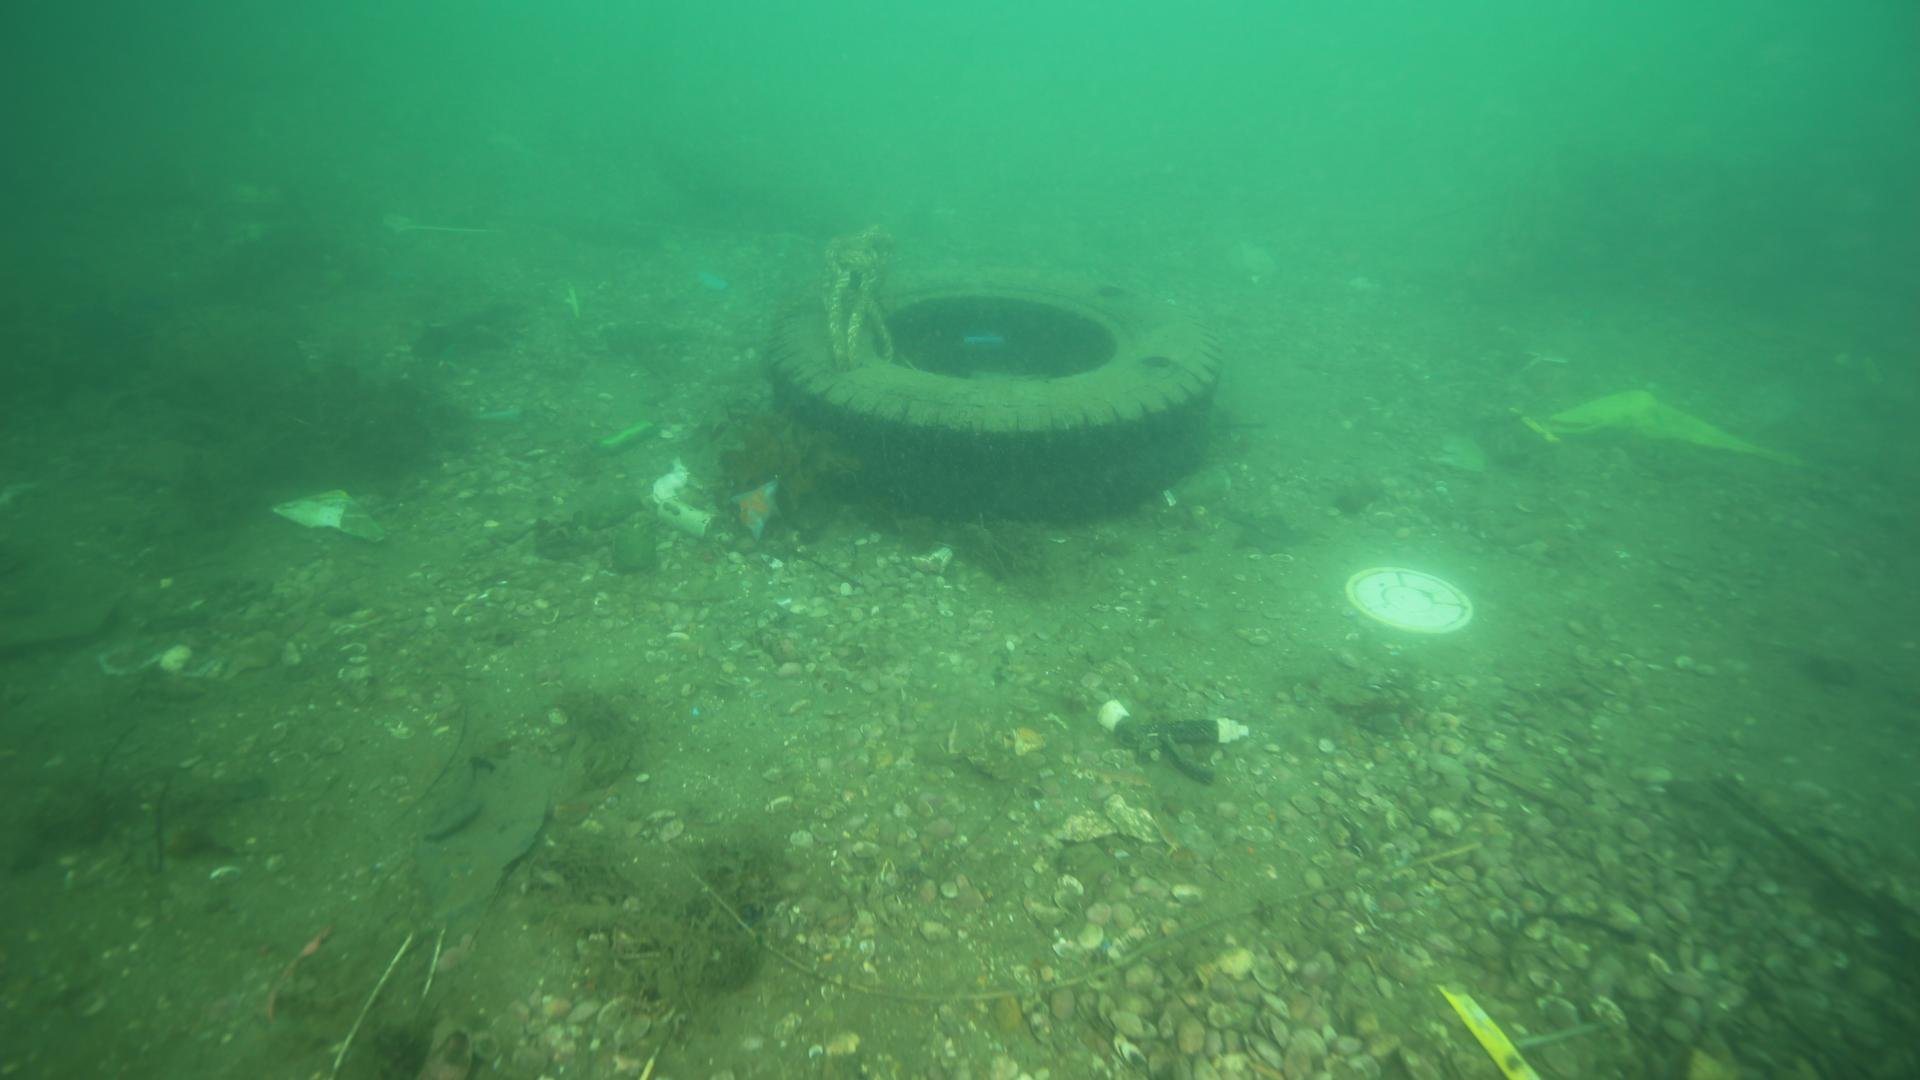bundle of ropes: (819, 218, 902, 376)
tire: (761, 261, 1226, 527)
